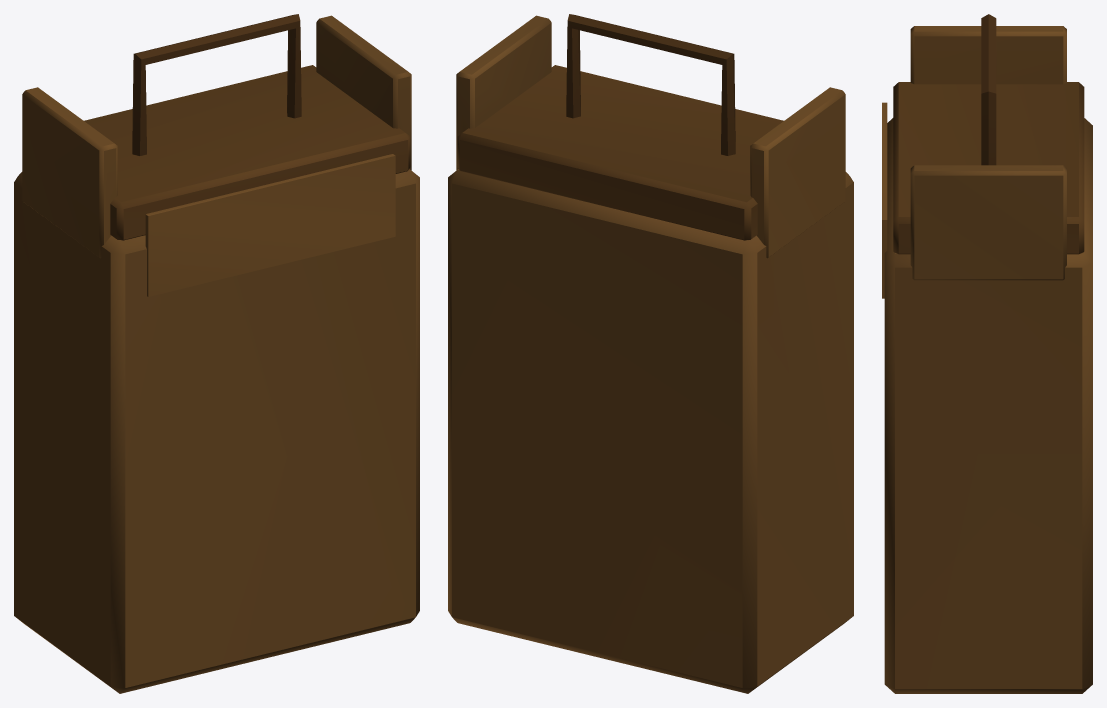
Rendered from mkt-paper-bag.glb.
3 renders of one model, left to right at view 1: azimuth 30°, elevation 25°; view 2: azimuth 150°, elevation 25°; view 3: azimuth 270°, elevation 25°, orthographic. The views are drawn at different scales.
Parts seen in each view (by area): view 1: bag__paper, handle__paper; view 2: bag__paper, handle__paper; view 3: bag__paper, handle__paper.
Part boxes in pixels (x1,y1,x2,y2): bag__paper: (14,15,419,693); handle__paper: (132,14,301,155); bag__paper: (448,15,853,693); handle__paper: (566,14,735,155); bag__paper: (882,26,1092,693); handle__paper: (981,14,996,165).
Size of the model in its own units: 0.202 by 0.3641 by 0.1215.
